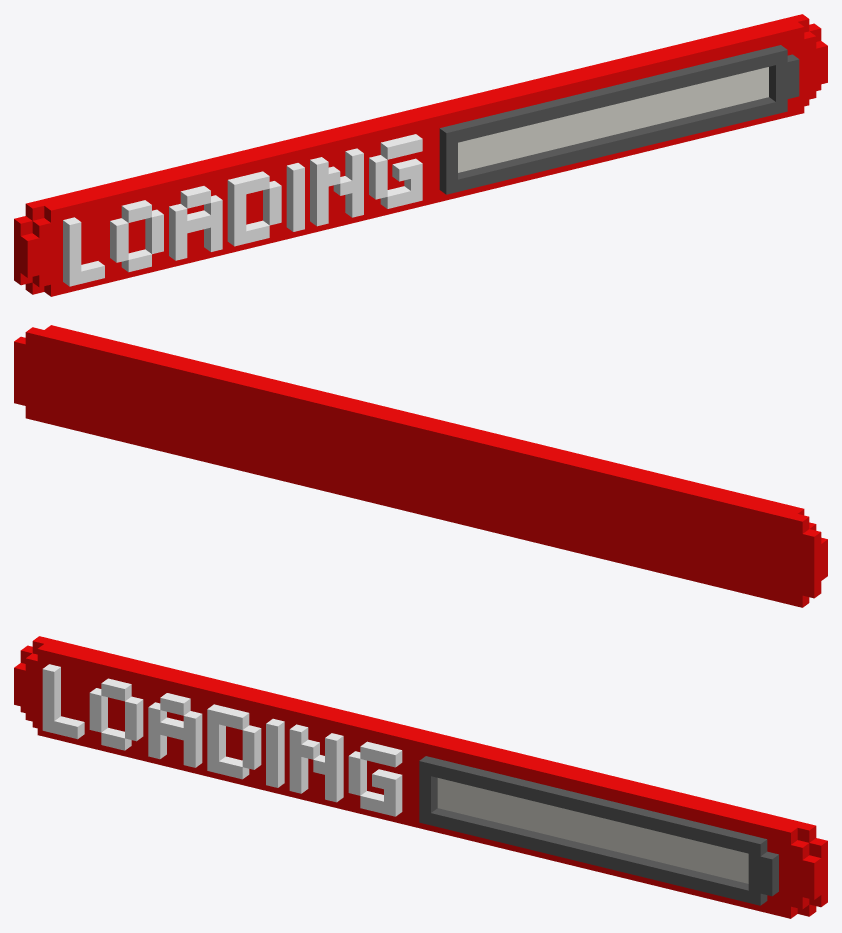
File: loading_1.obj
The picture shows the model from 3 angles, top to bottom: view 1: azimuth 30°, elevation 25°; view 2: azimuth 150°, elevation 25°; view 3: azimuth 330°, elevation 25°; orthographic projection.
Parts seen in each view (by area): view 1: loading_1; view 2: loading_1; view 3: loading_1.
Part boxes in pixels (<box>): loading_1: <box>14,14,827,296</box>; loading_1: <box>14,325,827,607</box>; loading_1: <box>14,636,827,918</box>.
Size of the model in its own units: 68 by 7 by 3.
Materials: 1 (1 with a texture image).
